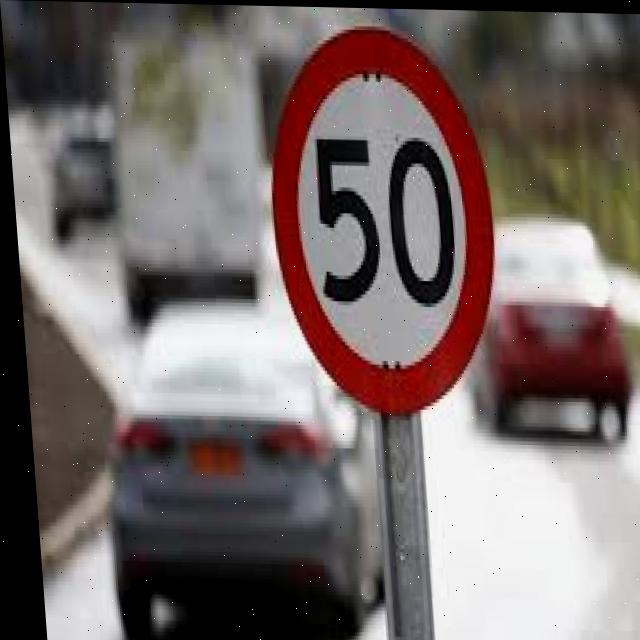Speed limit 50: (256, 20, 504, 418)
